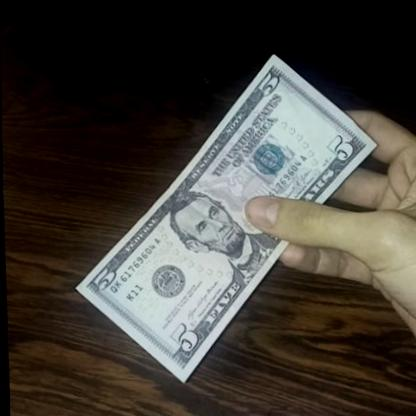five-front: (65, 47, 386, 379)
